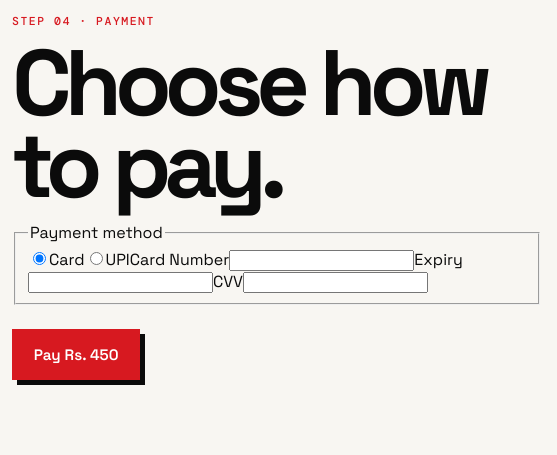
Test: CheckoutForm › returns to the form and reports a booking API failure after processing
Click the button "Pay Rs. 450" at [76, 355], box [12,329,140,380]
Wait 2000 ms
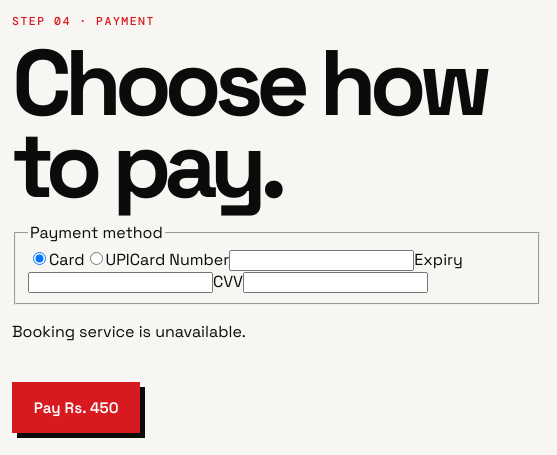
Expected: the button "Pay Rs. 450" is enabled, [12,382,140,433]
Now the message reads "Booking service is unavailable.", box [12,321,246,342]
